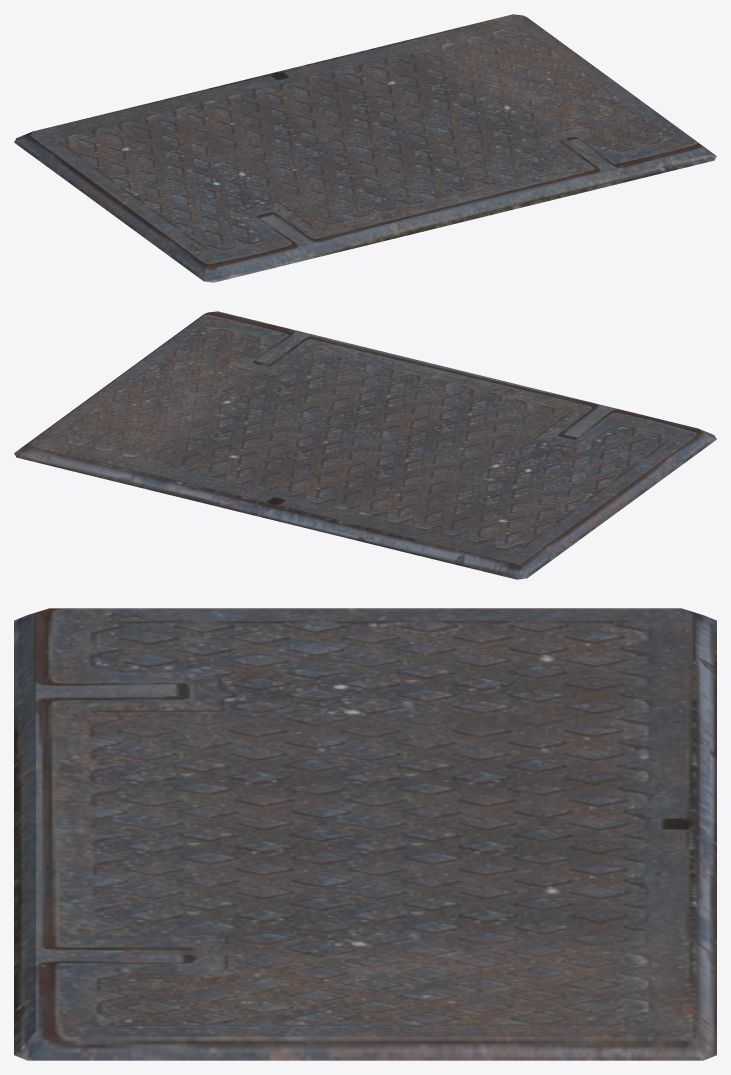
File: jctUtilityholeB.fbx
3 views of the same model, one above another, from view 1: azimuth 30°, elevation 25°; view 2: azimuth 150°, elevation 25°; view 3: azimuth 270°, elevation 25° (orthographic). The views are drawn at different scales.
Parts seen in each view (by area): view 1: jctUtilityholeB; view 2: jctUtilityholeB; view 3: jctUtilityholeB.
Part boxes in pixels (bbox=[...]): jctUtilityholeB: bbox=[14, 14, 716, 282]; jctUtilityholeB: bbox=[14, 311, 716, 579]; jctUtilityholeB: bbox=[14, 608, 716, 1060].
Size of the model in its own units: 30 by 0.4868 by 20.
